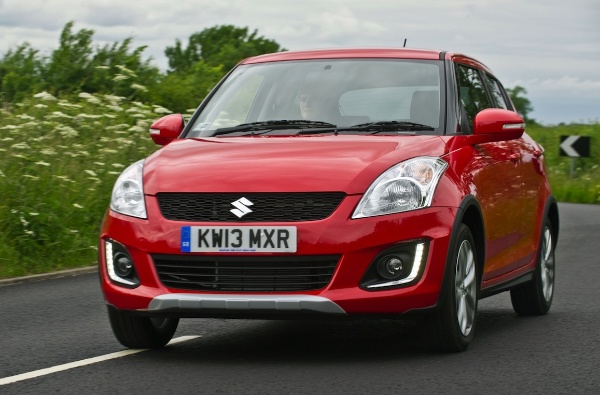licence: (180, 221, 303, 255)
